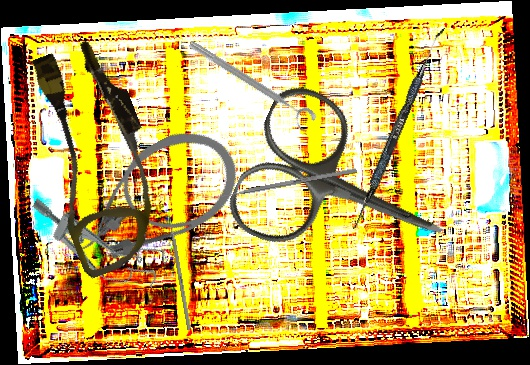Cannula: (7, 32, 186, 281), (48, 114, 254, 281)
Fixation Ring: (181, 37, 319, 134)
Iris Scissors: (220, 77, 473, 305)
Pusher: (208, 167, 358, 202), (165, 206, 192, 330)
Spatula Surgical: (351, 23, 445, 233)
Speculum: (17, 187, 172, 302)
